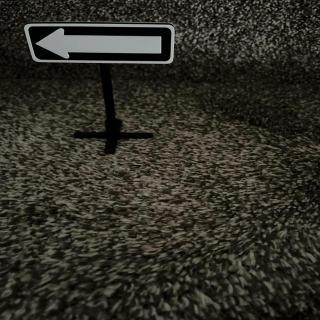sign_oneway_left: (25, 24, 177, 67)
